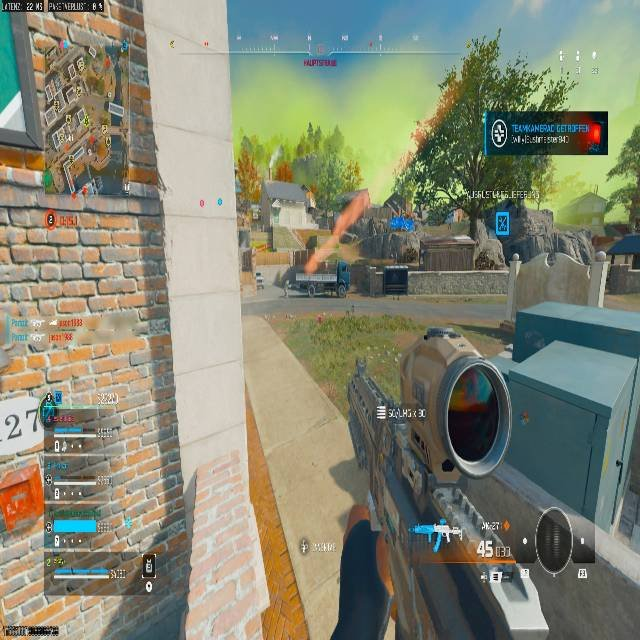player: (255, 272, 264, 292)
